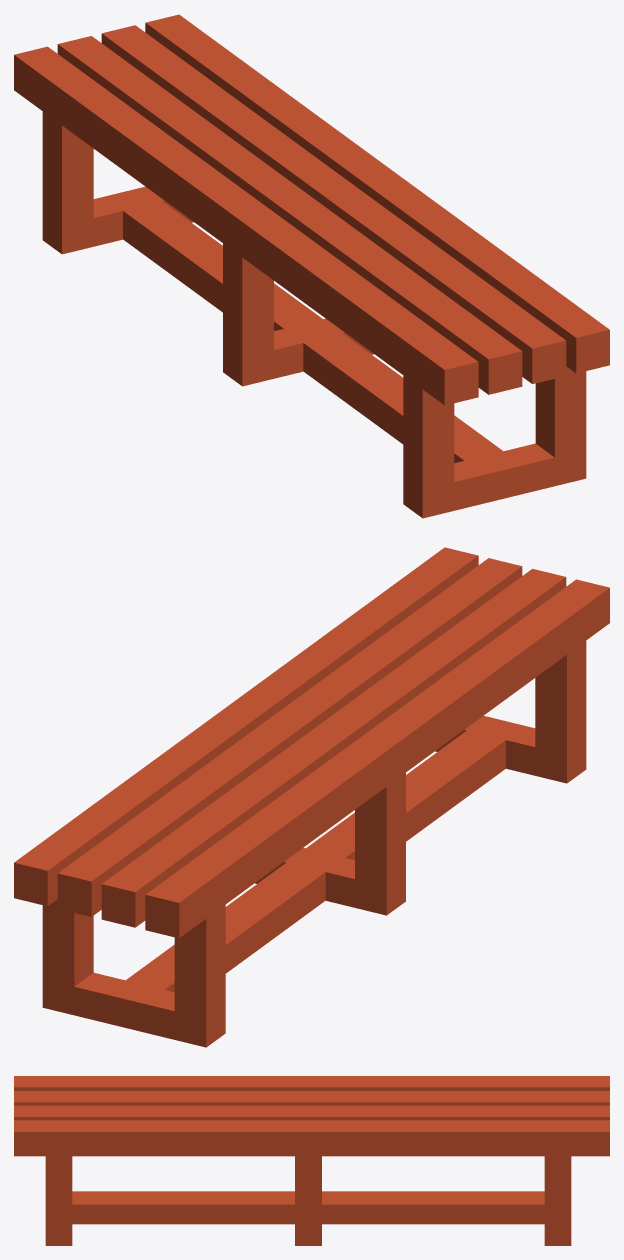
The model's file is chair.glb.
3 renders of one model, top to bottom at view 1: azimuth 30°, elevation 25°; view 2: azimuth 150°, elevation 25°; view 3: azimuth 270°, elevation 25°, orthographic. The views are drawn at different scales.
Parts seen in each view (by area): view 1: Cube.023; view 2: Cube.023; view 3: Cube.023.
Boxes of the visible parts, <box> form: Cube.023: <box>14,14,609,518</box>; Cube.023: <box>14,547,609,1047</box>; Cube.023: <box>14,1076,609,1245</box>.
Bounding box in the file's own units: 8.88 × 8.49 × 40.11.
